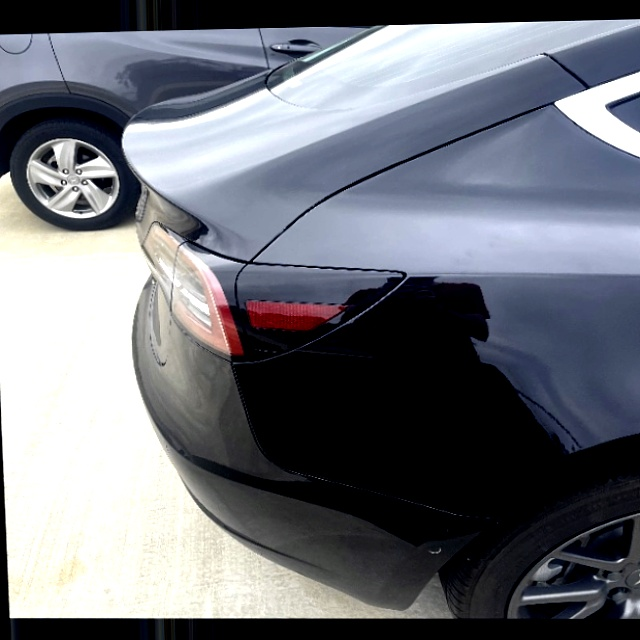reflector: (244, 298, 348, 332)
